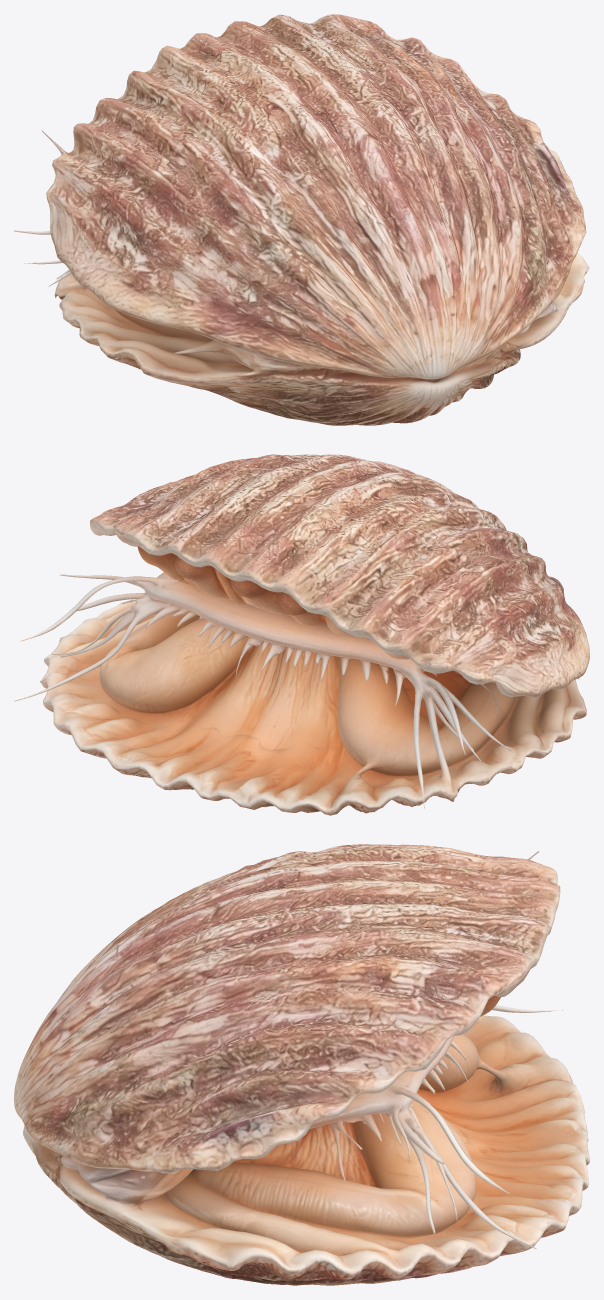
The model's file is bivalve.glb.
3 renders of one model, top to bottom at view 1: azimuth 30°, elevation 25°; view 2: azimuth 150°, elevation 25°; view 3: azimuth 270°, elevation 25°, orthographic. The views are drawn at different scales.
Visible parts, largest first — view 1: model; view 2: model; view 3: model.
Boxes of the visible parts, x1=… form: model: x1=14, y1=14, x2=589, y2=425; model: x1=14, y1=454, x2=589, y2=815; model: x1=14, y1=844, x2=589, y2=1285.
Bounding box in the file's own units: 1.89 × 1.12 × 1.64.
Materials: 1 (1 with a texture image).
